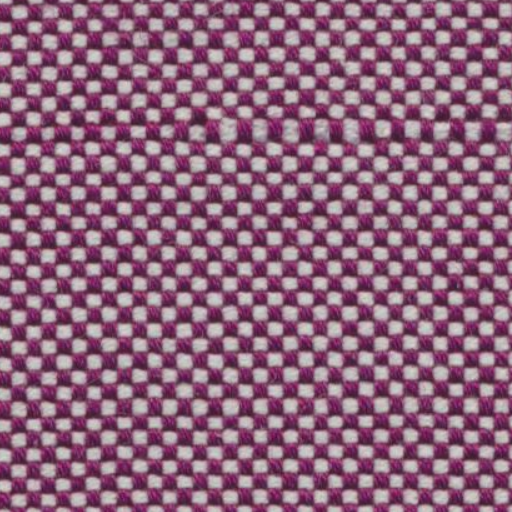DaiSha: (12, 100, 486, 160)
